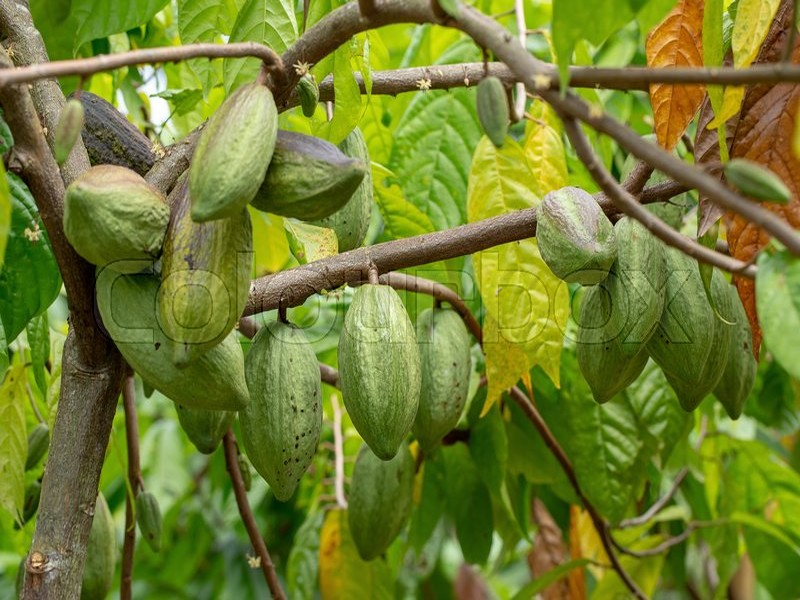Cacaopod: (341, 283, 420, 460), (189, 83, 279, 223), (539, 183, 621, 287)
